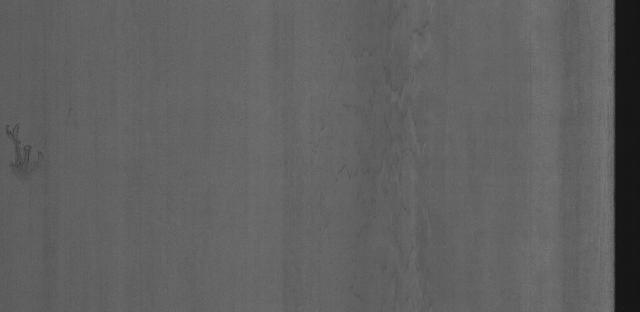silk_spot: (326, 51, 460, 275)
water_spot: (4, 117, 60, 189)
